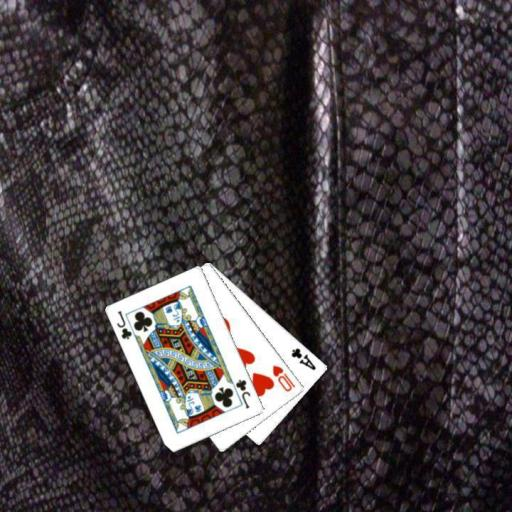card-corner: (270, 362, 297, 393), (288, 345, 318, 372), (232, 376, 252, 410), (114, 308, 134, 342)
